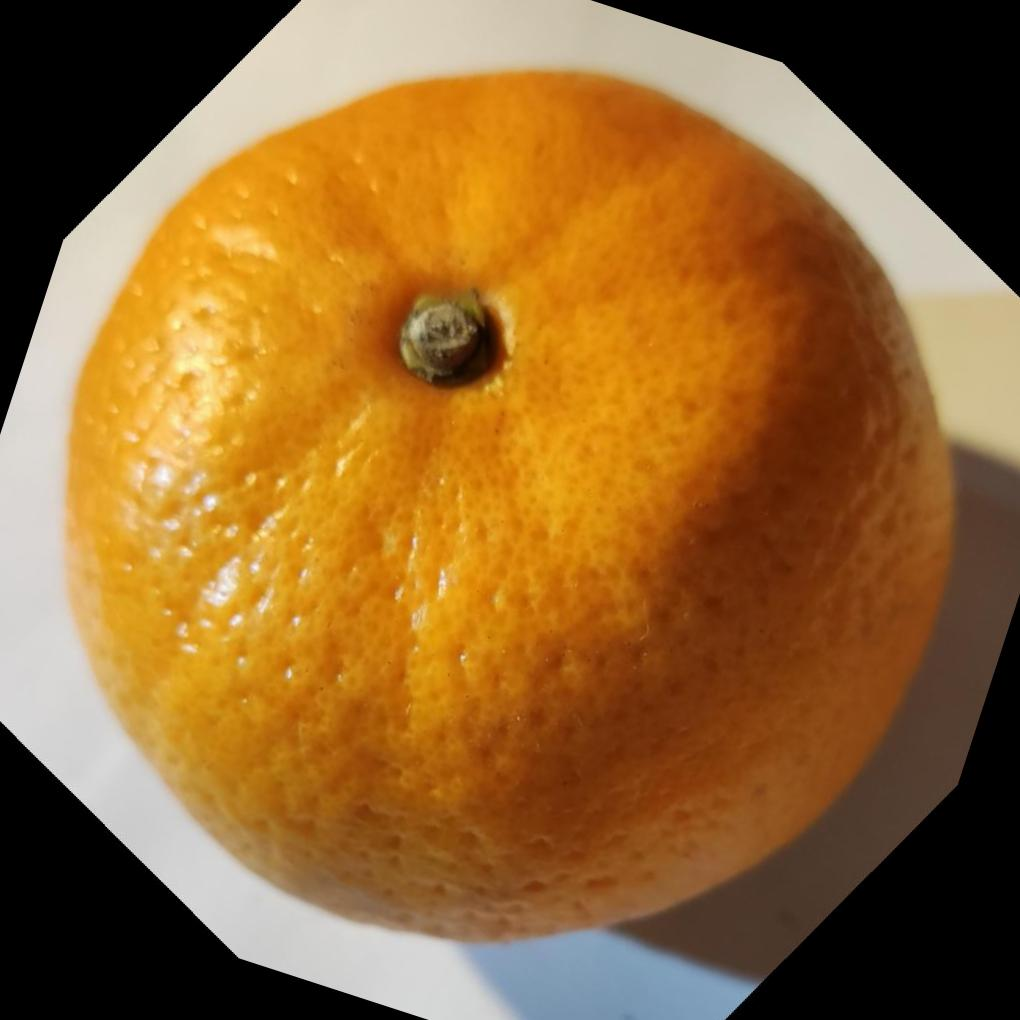FreshGuava: (54, 64, 955, 944)
